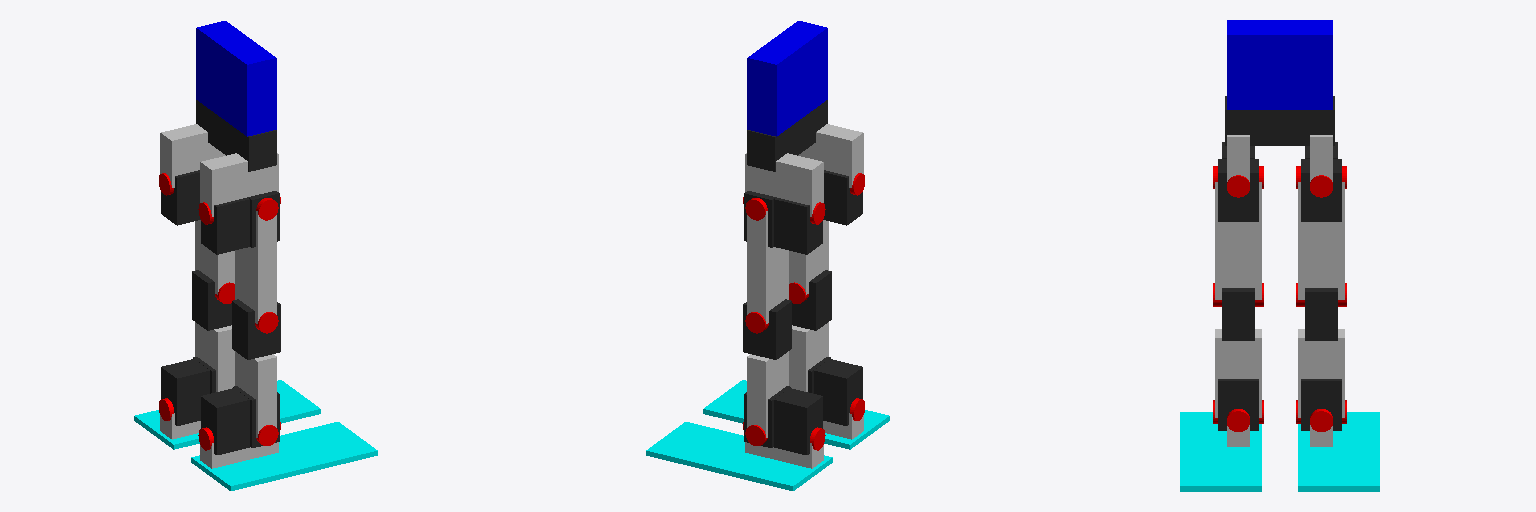
URDF robot description (humanoid):
<?xml version="1.0" ?>
<robot name="humanoid">
    <link name="body">
        <visual>
			<geometry>
				<box size="0.030 0.090 0.070"/>
			</geometry>
		    <origin xyz="0 0 0.355" rpy="0 0 0"/>
            <axis xyz="0 0 0" />
			<material name="blue">
	       		<color rgba="0 0 1 1.0"/>
	     	</material>
		</visual>
        <inertial>
            <mass value="0.3"/>
            <inertia ixx="0.000325" ixy="0.0" ixz="0.0" iyy="0.000145" iyz="0.0" izz="0.000225"/>
        </inertial>
        <collision>
			<geometry>
				<box size="0.030 0.090 0.070"/>
			</geometry>
		    <origin xyz="0 0 0.355" rpy="0 0 0"/>
        </collision>
    </link>


    <joint name="fixed_waist" type="fixed">
        <parent link="body"/>
        <child link="waist"/>
    </joint>

    <link name="waist">
        <visual>
			<geometry>
				<box size="0.0285 0.093 0.034"/>
			</geometry>
		    <origin xyz="0 0 0.303" rpy="0 0 0"/>
            <axis xyz="0 0 0" />
			<material name="motorColor">
	       		<color rgba="0.2 0.2 0.2 1.0"/>
	     	</material>
		</visual>
        <inertial>
            <mass value="0.116"/>
            <inertia ixx="9.478166666666668e-05" ixy="0.0" ixz="0.0" iyy="1.902641666666667e-05" iyz="0.0" izz="9.145875000000002e-05"/>
        </inertial>
    </link>

    <!-- Right leg -->
    
    <joint name="jointHipRZ" type="revolute">
        <parent link="waist"/>
        <child link="hipCylinderRZ"/>
        <origin xyz="0 -0.03525 0.25" rpy="0 0 0"/>
        <axis xyz="0 0 -1"/>
    	<limit effort="10" lower="-3" upper="+3" velocity="100"/>
        <dynamics damping="0"/>
    </joint>

    <link name="hipCylinderRZ">
        <visual>
			<geometry>
				<cylinder length="0.04" radius="0.01"/>
			</geometry>
		    <origin xyz="0 0 0.02" rpy="0 0 0"/>
            <axis xyz="0 0 0" />
			<material name="red">
	       		<color rgba="1 0.0 0.0 1.0"/>
	     	</material>
		</visual>
        <inertial>
            <mass value="0"/>
            <inertia ixx="0" ixy="0" ixz="0.0" iyy="0" iyz="0.0" izz="0"/>
        </inertial>
    </link>

    <joint name="jointHipRX" type="revolute">
        <parent link="hipCylinderRZ"/>
        <child link="hipCylinderRX"/>
        <origin xyz="0 0 0" rpy="0 0 0"/>
        <axis xyz="1 0 0"/>
    	<limit effort="10" lower="-3" upper="+3" velocity="100"/>
        <dynamics damping="0"/>
    </joint>

    <link name="hipCylinderRX">
        <visual>
			<geometry>
				<cylinder length="0.0725" radius="0.01"/>
			</geometry>
		    <origin xyz="-0.017 0 0" rpy="0 1.57075 0"/>
            <axis xyz="0 0 0" />
			<material name="red"/>
		</visual>
        <inertial>
            <mass value="0"/>
            <inertia ixx="0" ixy="0" ixz="0.0" iyy="0" iyz="0.0" izz="0"/>
        </inertial>
    </link>

    <joint name="jointHipRY" type="revolute">
        <parent link="hipCylinderRX"/>
        <child link="hipCylinderRY"/>
        <origin xyz="0 0 0" rpy="0 0 0"/>
        <axis xyz="0 -1 0"/>
    	<limit effort="10" lower="-3" upper="+3" velocity="100"/>
        <dynamics damping="0"/>
    </joint>

    <link name="hipCylinderRY">
        <visual>
			<geometry>
				<cylinder length="0.044" radius="0.01"/>
			</geometry>
		    <origin xyz="0 0 0" rpy="1.57075 0 0"/>
            <axis xyz="0 0 0" />
			<material name="red"/>
		</visual>
        <inertial>
            <mass value="0"/>
            <inertia ixx="0" ixy="0" ixz="0.0" iyy="0" iyz="0.0" izz="0"/>
        </inertial>
    </link>

    <joint name="jointKneeRY" type="revolute">
        <parent link="hipCylinderRY"/>
        <child link="kneeCylinderRY"/>
        <origin xyz="0 0 -0.11" rpy="0 0 0"/>
        <axis xyz="0 -1 0"/>
    	<limit effort="10" lower="-3" upper="+3" velocity="100"/>
        <dynamics damping="0"/>
    </joint>

    <link name="kneeCylinderRY">
        <visual>
			<geometry>
				<cylinder length="0.044" radius="0.01"/>
			</geometry>
		    <origin xyz="0 0 0" rpy="1.57075 0 0"/>
            <axis xyz="0 0 0" />
			<material name="red"/>
		</visual>
        <inertial>
            <mass value="0"/>
            <inertia ixx="0" ixy="0" ixz="0.0" iyy="0" iyz="0.0" izz="0"/>
        </inertial>
    </link>

    <joint name="jointankleRY" type="revolute">
        <parent link="kneeCylinderRY"/>
        <child link="ankleCylinderRY"/>
        <origin xyz="0 0 -0.11" rpy="0 0 0"/>
        <axis xyz="0 -1 0"/>
    	<limit effort="10" lower="-3" upper="+3" velocity="100"/>
        <dynamics damping="0"/>
    </joint>

    <link name="ankleCylinderRY">
        <visual>
			<geometry>
				<cylinder length="0.044" radius="0.01"/>
			</geometry>
		    <origin xyz="0 0 0" rpy="1.57075 0 0"/>
            <axis xyz="0 0 0" />
			<material name="red"/>
		</visual>
        <inertial>
            <mass value="0"/>
            <inertia ixx="0" ixy="0" ixz="0.0" iyy="0" iyz="0.0" izz="0"/>
        </inertial>
    </link>

    <joint name="jointankleRX" type="revolute">
        <parent link="ankleCylinderRY"/>
        <child link="ankleCylinderRX"/>
        <origin xyz="0 0 0" rpy="0 0 0"/>
        <axis xyz="1 0 0"/>
    	<limit effort="10" lower="-3" upper="+3" velocity="100"/>
        <dynamics damping="0"/>
    </joint>

    <link name="ankleCylinderRX">
        <visual>
			<geometry>
				<cylinder length="0.0725" radius="0.01"/>
			</geometry>
		    <origin xyz="-0.017 0 0" rpy="0 1.57075 0"/>
            <axis xyz="0 0 0" />
			<material name="red"/>
		</visual>
        <inertial>
            <mass value="0"/>
            <inertia ixx="0" ixy="0" ixz="0.0" iyy="0" iyz="0.0" izz="0"/>
        </inertial>
    </link>
     	
    <!-- Left leg -->
    
    <joint name="jointHipLZ" type="revolute">
        <parent link="waist"/>
        <child link="hipCylinderLZ"/>
        <origin xyz="0 0.03525 0.25" rpy="0 0 0"/>
        <axis xyz="0 0 -1"/>
    	<limit effort="10" lower="-3" upper="+3" velocity="100"/>
        <dynamics damping="0"/>
    </joint>

    <link name="hipCylinderLZ">
        <visual>
			<geometry>
				<cylinder length="0.04" radius="0.01"/>
			</geometry>
		    <origin xyz="0 0 0.02" rpy="0 0 0"/>
            <axis xyz="0 0 0" />
			<material name="red">
	       		<color rgba="1 0.0 0.0 1.0"/>
	     	</material>
		</visual>
        <inertial>
            <mass value="0"/>
            <inertia ixx="0" ixy="0" ixz="0.0" iyy="0" iyz="0.0" izz="0"/>
        </inertial>
    </link>

    <joint name="jointHipLX" type="revolute">
        <parent link="hipCylinderLZ"/>
        <child link="hipCylinderLX"/>
        <origin xyz="0 0 0" rpy="0 0 0"/>
        <axis xyz="1 0 0"/>
    	<limit effort="10" lower="-3" upper="+3" velocity="100"/>
        <dynamics damping="0"/>
    </joint>

    <link name="hipCylinderLX">
        <visual>
			<geometry>
				<cylinder length="0.0725" radius="0.01"/>
			</geometry>
		    <origin xyz="-0.017 0 0" rpy="0 1.57075 0"/>
            <axis xyz="0 0 0" />
			<material name="red"/>
		</visual>
        <inertial>
            <mass value="0"/>
            <inertia ixx="0" ixy="0" ixz="0.0" iyy="0" iyz="0.0" izz="0"/>
        </inertial>
    </link>

    <joint name="jointHipLY" type="revolute">
        <parent link="hipCylinderLX"/>
        <child link="hipCylinderLY"/>
        <origin xyz="0 0 0" rpy="0 0 0"/>
        <axis xyz="0 1 0"/>
    	<limit effort="10" lower="-3" upper="+3" velocity="100"/>
        <dynamics damping="0"/>
    </joint>

    <link name="hipCylinderLY">
        <visual>
			<geometry>
				<cylinder length="0.044" radius="0.01"/>
			</geometry>
		    <origin xyz="0 0 0" rpy="1.57075 0 0"/>
            <axis xyz="0 0 0" />
			<material name="red"/>
		</visual>
        <inertial>
            <mass value="0"/>
            <inertia ixx="0" ixy="0" ixz="0.0" iyy="0" iyz="0.0" izz="0"/>
        </inertial>
    </link>

    <joint name="jointKneeLY" type="revolute">
        <parent link="hipCylinderLY"/>
        <child link="kneeCylinderLY"/>
        <origin xyz="0 0 -0.11" rpy="0 0 0"/>
        <axis xyz="0 1 0"/>
    	<limit effort="10" lower="-3" upper="+3" velocity="100"/>
        <dynamics damping="0"/>
    </joint>

    <link name="kneeCylinderLY">
        <visual>
			<geometry>
				<cylinder length="0.044" radius="0.01"/>
			</geometry>
		    <origin xyz="0 0 0" rpy="1.57075 0 0"/>
            <axis xyz="0 0 0" />
			<material name="red"/>
		</visual>
        <inertial>
            <mass value="0"/>
            <inertia ixx="0" ixy="0" ixz="0.0" iyy="0" iyz="0.0" izz="0"/>
        </inertial>
    </link>

    <joint name="jointankleLY" type="revolute">
        <parent link="kneeCylinderLY"/>
        <child link="ankleCylinderLY"/>
        <origin xyz="0 0 -0.11" rpy="0 0 0"/>
        <axis xyz="0 1 0"/>
    	<limit effort="10" lower="-3" upper="+3" velocity="100"/>
        <dynamics damping="0"/>
    </joint>

    <link name="ankleCylinderLY">
        <visual>
			<geometry>
				<cylinder length="0.044" radius="0.01"/>
			</geometry>
		    <origin xyz="0 0 0" rpy="1.57075 0 0"/>
            <axis xyz="0 0 0" />
			<material name="red"/>
		</visual>
        <inertial>
            <mass value="0"/>
            <inertia ixx="0" ixy="0" ixz="0.0" iyy="0" iyz="0.0" izz="0"/>
        </inertial>
    </link>

    <joint name="jointankleLX" type="revolute">
        <parent link="ankleCylinderLY"/>
        <child link="ankleCylinderLX"/>
        <origin xyz="0 0 0" rpy="0 0 0"/>
        <axis xyz="1 0 0"/>
    	<limit effort="10" lower="-3" upper="+3" velocity="100"/>
        <dynamics damping="0"/>
    </joint>

    <link name="ankleCylinderLX">
        <visual>
			<geometry>
				<cylinder length="0.0725" radius="0.01"/>
			</geometry>
		    <origin xyz="-0.017 0 0" rpy="0 1.57075 0"/>
            <axis xyz="0 0 0" />
			<material name="red"/>
		</visual>
        <inertial>
            <mass value="0"/>
            <inertia ixx="0" ixy="0" ixz="0.0" iyy="0" iyz="0.0" izz="0"/>
        </inertial>
    </link>




    <!-- Decorations R -->
    
    
    <joint name="fixed_hipBridgeR" type="fixed">
        <parent link="hipCylinderRZ"/>
        <child link="hipBridgeR"/>
    </joint>
    
    <link name="hipBridgeR">
      <visual>
			<geometry>
				<box size="0.0685 0.02 0.046"/>
			</geometry>
		    <origin xyz="-0.017 0 0.023" rpy="0 0 0"/>
			<material name="linkColor">
	       		<color rgba="0.8 0.8 0.8 1.0"/>
	     	</material>
		</visual>
        <inertial>
            <mass value="0.03"/>
            <inertia ixx="6.29e-06" ixy="0.0" ixz="0.0" iyy="1.7020625000000003e-05" iyz="0.0" izz="1.2730625000000003e-05"/>
        </inertial>
    </link>
    
    <joint name="fixed_hipMotorRF" type="fixed">
        <parent link="hipCylinderRX"/>
        <child link="hipMotorRF"/>
    </joint>
    
    <link name="hipMotorRF">
        <visual>
			<geometry>
				<box size="0.0285 0.034 0.0465"/>
			</geometry>
		    <origin xyz="0 0 -0.01225" rpy="0 0 0"/>
            <axis xyz="0 0 0" />
			<material name="motorColor">
	       		<color rgba="0.2 0.2 0.2 1.0"/>
	     	</material>
		</visual>
        <inertial>
            <mass value="0.058"/>
            <inertia ixx="1.6038208333333333e-05" ixy="0.0" ixz="0.0" iyy="1.4376750000000003e-05" iyz="0.0" izz="9.513208333333336e-06"/>
        </inertial>
    </link>
    
    <joint name="fixed_hipMotorRB" type="fixed">
        <parent link="hipCylinderRX"/>
        <child link="hipMotorRB"/>
    </joint>

    <link name="hipMotorRB">
        <visual>
			<geometry>
				<box size="0.034 0.0285 0.0465"/>
			</geometry>
		    <origin xyz="-0.0315 0 -0.01225" rpy="0 0 0"/>
            <axis xyz="0 0 0" />
			<material name="motorColor"/>
		</visual>
        <inertial>
            <mass value="0.058"/>
            <inertia ixx="1.4376750000000003e-05" ixy="0.0" ixz="0.0" iyy="1.6038208333333333e-05" iyz="0.0" izz="9.513208333333336e-06"/>
        </inertial>
    </link>
    
    <joint name="fixed_legUpR" type="fixed">
        <parent link="hipCylinderRY"/>
        <child link="legUpR"/>
    </joint>
 
    <link name="legUpR">
        <visual>
            <geometry>
                <box size="0.02 0.04 0.11"/>
            </geometry>
            <origin xyz="0 0 -0.055"/>
            <axis xyz="0 0 0" />
            <material name="linkColor"/>
        </visual>
        <inertial>
            <mass value="0.03"/>
            <inertia ixx="3.425e-05" ixy="0.0" ixz="0.0" iyy="3.1249999999999994e-05" iyz="0.0" izz="5e-06"/>
        </inertial>
    </link>
    
    <joint name="fixed_kneeMotorR" type="fixed">
        <parent link="kneeCylinderRY"/>
        <child link="kneeMotorR"/>
    </joint>
    
    <link name="kneeMotorR">
        <visual>
			<geometry>
				<box size="0.034 0.0285 0.0465"/>
			</geometry>
		    <origin xyz="0 0 -0.01225" rpy="0 0 0"/>
            <axis xyz="0 0 0" />
            <material name="motorColor"/>
		</visual>
        <inertial>
            <mass value="0.058"/>
            <inertia ixx="1.4376750000000003e-05" ixy="0.0" ixz="0.0" iyy="1.6038208333333333e-05" iyz="0.0" izz="1.6038208333333333e-05"/>
        </inertial>
    </link>

    <joint name="fixed_legDownR" type="fixed">
        <parent link="kneeCylinderRY"/>
        <child link="legDownR"/>
    </joint>
    
    <link name="legDownR">
        <visual>
            <geometry>
                <box size="0.02 0.04 0.07475"/>
            </geometry>
            <origin xyz="0 0 -0.073625"/>
            <axis xyz="0 0 0" />
            <material name="linkColor"/>
        </visual>
        <inertial>
            <mass value="0.03"/>
            <inertia ixx="1.796890625e-05" ixy="0.0" ixz="0.0" iyy="1.4968906249999999e-05" iyz="0.0" izz="5e-06"/>
        </inertial>
    </link>

    <joint name="fixed_ankleMotorRF" type="fixed">
        <parent link="ankleCylinderRY"/>
        <child link="ankleMotorRF"/>
    </joint>

    <link name="ankleMotorRF">
        <visual>
			<geometry>
				<box size="0.0285 0.034 0.0465"/>
			</geometry>
		    <origin xyz="0 0 0.01225" rpy="0 0 0"/>
            <axis xyz="0 0 0" />
            <material name="motorColor"/>
		</visual>
        <inertial>
            <mass value="0.058"/>
            <inertia ixx="1.6038208333333333e-05" ixy="0.0" ixz="0.0" iyy="1.4376750000000003e-05" iyz="0.0" izz="9.513208333333336e-06"/>
        </inertial>
    </link>

    <joint name="fixed_ankleMotorRB" type="fixed">
        <parent link="ankleCylinderRY"/>
        <child link="ankleMotorRB"/>
    </joint>
    
    <link name="ankleMotorRB">
        <visual>
			<geometry>
				<box size="0.034 0.0285 0.0465"/>
			</geometry>
		    <origin xyz="-0.0315 0 0.01225" rpy="0 0 0"/>
            <axis xyz="0 0 0" />
            <material name="motorColor"/>
		</visual>
        <inertial>
            <mass value="0.058"/>
            <inertia ixx="1.4376750000000003e-05" ixy="0.0" ixz="0.0" iyy="1.6038208333333333e-05" iyz="0.0" izz="9.513208333333336e-06"/>
        </inertial>
    </link>

    <joint name="fixed_footBridgeR" type="fixed">
        <parent link="ankleCylinderRX"/>
        <child link="footBridgeR"/>
    </joint>

    <link name = "footBridgeR">
        <visual>
			<geometry>
				<box size="0.0685 0.02 0.025"/>
			</geometry>
		    <origin xyz="-0.017 0 -0.0125" rpy="0 0 0"/>
            <axis xyz="0 0 0" />
            <material name="linkColor"/>
		</visual>
        <inertial>
            <mass value="0.009"/>
            <inertia ixx="8.541666666666668e-07" ixy="0.0" ixz="0.0" iyy="4.431041666666667e-06" iyz="0.0" izz="4.243541666666668e-06"/>
        </inertial>
    </link>

    <joint name="fixed_footR" type="fixed">
        <parent link="ankleCylinderRX"/>
        <child link="footR"/>
    </joint>

    <link name="footR">
        <visual>
			<geometry>
				<box size="0.15 0.07 0.005"/>
			</geometry>
		    <origin xyz="0.02 -0.015 -0.0275" rpy="0 0 0"/>
            <axis xyz="0 0 0" />
            <material name="footColor">
	       		<color rgba="0 1 1 1.0"/>
            </material>
		</visual>
        <inertial>
            <mass value="0.025"/>
            <inertia ixx="1.026041666666667e-05" ixy="0.0" ixz="0.0" iyy="4.692708333333334e-05" iyz="0.0" izz="5.7083333333333336e-05"/>
        </inertial>
        <!--
        <collision>
			<geometry>
				<box size="0.15 0.04 0.02"/>
			</geometry>
		    <origin xyz="0.02 -0.015 -0.02" rpy="0 0 0"/>
        </collision>
        <collision>
			<geometry>
				<box size="0.12 0.07 0.02"/>
			</geometry>
		    <origin xyz="0.02 -0.015 -0.02" rpy="0 0 0"/>
        </collision>
        -->
        <collision>
			<geometry>
				<box size="0.15 0.07 0.02"/>
			</geometry>
		    <origin xyz="0.02 -0.015 -0.02" rpy="0 0 0"/>
        </collision>
    </link>

    <!-- Decorations L -->
    
    <joint name="fixed_hipBridgeL" type="fixed">
        <parent link="hipCylinderLZ"/>
        <child link="hipBridgeL"/>
    </joint>
    
    <link name="hipBridgeL">
      <visual>
			<geometry>
				<box size="0.0685 0.02 0.046"/>
			</geometry>
		    <origin xyz="-0.017 0 0.023" rpy="0 0 0"/>
			<material name="linkColor">
	       		<color rgba="0.8 0.8 0.8 1.0"/>
	     	</material>
		</visual>
        <inertial>
            <mass value="0.03"/>
            <inertia ixx="6.29e-06" ixy="0.0" ixz="0.0" iyy="1.7020625000000003e-05" iyz="0.0" izz="1.2730625000000003e-05"/>
        </inertial>
    </link>
    
    <joint name="fixed_hipMotorLF" type="fixed">
        <parent link="hipCylinderLX"/>
        <child link="hipMotorLF"/>
    </joint>
    
    <link name="hipMotorLF">
        <visual>
			<geometry>
				<box size="0.0285 0.034 0.0465"/>
			</geometry>
		    <origin xyz="0 0 -0.01225" rpy="0 0 0"/>
            <axis xyz="0 0 0" />
			<material name="motorColor">
	       		<color rgba="0.2 0.2 0.2 1.0"/>
	     	</material>
		</visual>
        <inertial>
            <mass value="0.058"/>
            <inertia ixx="1.6038208333333333e-05" ixy="0.0" ixz="0.0" iyy="1.4376750000000003e-05" iyz="0.0" izz="9.513208333333336e-06"/>
        </inertial>
    </link>
    
    <joint name="fixed_hipMotorLB" type="fixed">
        <parent link="hipCylinderLX"/>
        <child link="hipMotorLB"/>
    </joint>

    <link name="hipMotorLB">
        <visual>
			<geometry>
				<box size="0.034 0.0285 0.0465"/>
			</geometry>
		    <origin xyz="-0.0315 0 -0.01225" rpy="0 0 0"/>
            <axis xyz="0 0 0" />
			<material name="motorColor"/>
		</visual>
        <inertial>
            <mass value="0.058"/>
            <inertia ixx="1.4376750000000003e-05" ixy="0.0" ixz="0.0" iyy="1.6038208333333333e-05" iyz="0.0" izz="9.513208333333336e-06"/>
        </inertial>
    </link>
    
    <joint name="fixed_legUpL" type="fixed">
        <parent link="hipCylinderLY"/>
        <child link="legUpL"/>
    </joint>
 
    <link name="legUpL">
        <visual>
            <geometry>
                <box size="0.02 0.04 0.11"/>
            </geometry>
            <origin xyz="0 0 -0.055"/>
            <axis xyz="0 0 0" />
            <material name="linkColor"/>
        </visual>
        <inertial>
            <mass value="0.03"/>
            <inertia ixx="3.425e-05" ixy="0.0" ixz="0.0" iyy="3.1249999999999994e-05" iyz="0.0" izz="5e-06"/>
        </inertial>
    </link>
    
    <joint name="fixed_kneeMotorL" type="fixed">
        <parent link="kneeCylinderLY"/>
        <child link="kneeMotorL"/>
    </joint>
    
    <link name="kneeMotorL">
        <visual>
			<geometry>
				<box size="0.034 0.0285 0.0465"/>
			</geometry>
		    <origin xyz="0 0 -0.01225" rpy="0 0 0"/>
            <axis xyz="0 0 0" />
            <material name="motorColor"/>
		</visual>
        <inertial>
            <mass value="0.058"/>
            <inertia ixx="1.4376750000000003e-05" ixy="0.0" ixz="0.0" iyy="1.6038208333333333e-05" iyz="0.0" izz="1.6038208333333333e-05"/>
        </inertial>
    </link>

    <joint name="fixed_legDownL" type="fixed">
        <parent link="kneeCylinderLY"/>
        <child link="legDownL"/>
    </joint>
    
    <link name="legDownL">
        <visual>
            <geometry>
                <box size="0.02 0.04 0.07475"/>
            </geometry>
            <origin xyz="0 0 -0.073625"/>
            <axis xyz="0 0 0" />
            <material name="linkColor"/>
        </visual>
        <inertial>
            <mass value="0.03"/>
            <inertia ixx="1.796890625e-05" ixy="0.0" ixz="0.0" iyy="1.4968906249999999e-05" iyz="0.0" izz="5e-06"/>
        </inertial>
    </link>

    <joint name="fixed_ankleMotorLF" type="fixed">
        <parent link="ankleCylinderLY"/>
        <child link="ankleMotorLF"/>
    </joint>

    <link name="ankleMotorLF">
        <visual>
			<geometry>
				<box size="0.0285 0.034 0.0465"/>
			</geometry>
		    <origin xyz="0 0 0.01225" rpy="0 0 0"/>
            <axis xyz="0 0 0" />
            <material name="motorColor"/>
		</visual>
        <inertial>
            <mass value="0.058"/>
            <inertia ixx="1.6038208333333333e-05" ixy="0.0" ixz="0.0" iyy="1.4376750000000003e-05" iyz="0.0" izz="9.513208333333336e-06"/>
        </inertial>
    </link>

    <joint name="fixed_ankleMotorLB" type="fixed">
        <parent link="ankleCylinderLY"/>
        <child link="ankleMotorLB"/>
    </joint>
    
    <link name="ankleMotorLB">
        <visual>
			<geometry>
				<box size="0.034 0.0285 0.0465"/>
			</geometry>
		    <origin xyz="-0.0315 0 0.01225" rpy="0 0 0"/>
            <axis xyz="0 0 0" />
            <material name="motorColor"/>
		</visual>
        <inertial>
            <mass value="0.058"/>
            <inertia ixx="1.4376750000000003e-05" ixy="0.0" ixz="0.0" iyy="1.6038208333333333e-05" iyz="0.0" izz="9.513208333333336e-06"/>
        </inertial>
    </link>

    <joint name="fixed_footBridgeL" type="fixed">
        <parent link="ankleCylinderLX"/>
        <child link="footBridgeL"/>
    </joint>

    <link name = "footBridgeL">
        <visual>
			<geometry>
				<box size="0.0685 0.02 0.025"/>
			</geometry>
		    <origin xyz="-0.017 0 -0.0125" rpy="0 0 0"/>
            <axis xyz="0 0 0" />
            <material name="linkColor"/>
		</visual>
        <inertial>
            <mass value="0.009"/>
            <inertia ixx="8.541666666666668e-07" ixy="0.0" ixz="0.0" iyy="4.431041666666667e-06" iyz="0.0" izz="4.243541666666668e-06"/>
        </inertial>
    </link>

    <joint name="fixed_ankleCylinderLX" type="fixed">
        <parent link="ankleCylinderLX"/>
        <child link="footL"/>
    </joint>

    <link name="footL">
        <visual>
			<geometry>
				<box size="0.15 0.07 0.005"/>
			</geometry>
		    <origin xyz="0.02 0.015 -0.0275" rpy="0 0 0"/>
            <axis xyz="0 0 0" />
            <material name="footColor">
	       		<color rgba="0 1 1 1.0"/>
            </material>
		</visual>
        <inertial>
            <mass value="0.025"/>
            <inertia ixx="1.026041666666667e-05" ixy="0.0" ixz="0.0" iyy="4.692708333333334e-05" iyz="0.0" izz="5.7083333333333336e-05"/>
        </inertial>
        <!--
        <collision>
			<geometry>
				<box size="0.15 0.04 0.02"/>
			</geometry>
		    <origin xyz="0.02 0.015 -0.02" rpy="0 0 0"/>
        </collision>
        <collision>
			<geometry>
				<box size="0.12 0.07 0.02"/>
			</geometry>
		    <origin xyz="0.02 0.015 -0.02" rpy="0 0 0"/>
        </collision>
        -->
        <collision>
			<geometry>
				<box size="0.15 0.07 0.02"/>
			</geometry>
		    <origin xyz="0.02 0.015 -0.02" rpy="0 0 0"/>
        </collision>
    </link>
</robot>

--- What the picture shows (computed from the rendered views, not written in the file) ---
Views: 3 orthographic renders of the robot side by side, from view 1: azimuth 30°, elevation 25°; view 2: azimuth 150°, elevation 25°; view 3: azimuth 270°, elevation 25°.
Robot: humanoid — 34 links, 33 joints (12 revolute, 21 fixed); root link body; default pose: all joints at 0.
Links seen in each view (by area): view 1: body, footR, legUpR, hipBridgeR, ankleMotorRB, waist, ankleMotorLB, hipBridgeL, legDownR, hipMotorRB, kneeMotorR, footL (+8 smaller); view 2: body, footL, legUpL, hipBridgeL, ankleMotorLB, waist, ankleMotorRB, hipBridgeR, legDownL, hipMotorLB, kneeMotorL, footR (+8 smaller); view 3: body, footR, footL, waist, legUpR, legUpL, legDownR, legDownL, kneeMotorR, kneeMotorL, hipMotorRF, hipMotorLF (+4 smaller).
Link boxes in pixels (bbox=[...]): body: bbox=[196, 21, 276, 136]; footR: bbox=[191, 422, 377, 490]; legUpR: bbox=[235, 211, 276, 323]; hipBridgeR: bbox=[200, 153, 278, 216]; ankleMotorRB: bbox=[201, 388, 249, 454]; waist: bbox=[196, 100, 276, 171]; ankleMotorLB: bbox=[161, 359, 209, 425]; hipBridgeL: bbox=[160, 124, 225, 187]; legDownR: bbox=[235, 351, 276, 437]; hipMotorRB: bbox=[201, 197, 249, 254]; kneeMotorR: bbox=[232, 299, 280, 359]; footL: bbox=[134, 380, 320, 449]; body: bbox=[747, 21, 827, 136]; footL: bbox=[646, 422, 832, 490]; legUpL: bbox=[747, 211, 788, 323]; hipBridgeL: bbox=[745, 153, 823, 216]; ankleMotorLB: bbox=[774, 388, 822, 454]; waist: bbox=[747, 100, 827, 171]; ankleMotorRB: bbox=[814, 359, 862, 425]; hipBridgeR: bbox=[798, 124, 863, 187]; legDownL: bbox=[747, 351, 788, 437]; hipMotorLB: bbox=[774, 197, 822, 254]; kneeMotorL: bbox=[743, 299, 791, 359]; footR: bbox=[703, 380, 889, 449]; body: bbox=[1227, 20, 1332, 109]; footR: bbox=[1180, 412, 1261, 491]; footL: bbox=[1298, 412, 1379, 491]; waist: bbox=[1225, 96, 1334, 145]; legUpR: bbox=[1215, 182, 1261, 299]; legUpL: bbox=[1298, 182, 1344, 299]; legDownR: bbox=[1215, 329, 1261, 417]; legDownL: bbox=[1298, 329, 1344, 417]; kneeMotorR: bbox=[1222, 288, 1254, 340]; kneeMotorL: bbox=[1305, 288, 1337, 340]; hipMotorRF: bbox=[1218, 159, 1258, 221]; hipMotorLF: bbox=[1301, 159, 1341, 221].
Bounding box of the posed robot: 0.15 × 0.1705 × 0.39 m (x, y, z).
Geometry: primitives only (box / cylinder / sphere), no mesh files.